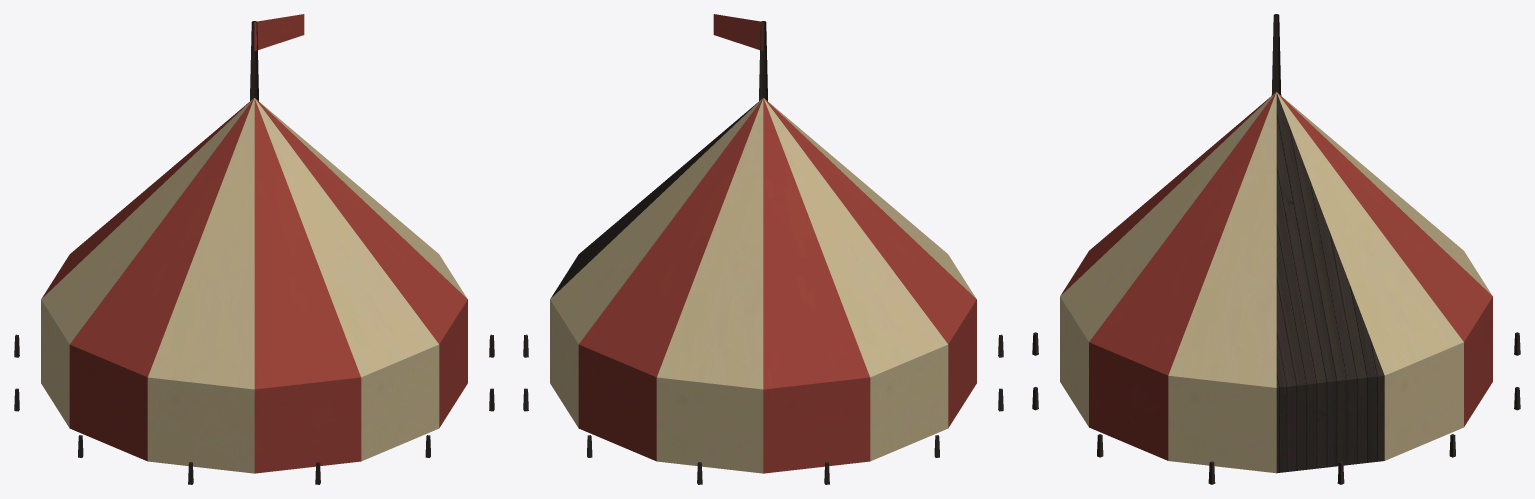
Rendered from tent_large_01.glb.
3 views of the same model, side by side, from view 1: azimuth 30°, elevation 25°; view 2: azimuth 150°, elevation 25°; view 3: azimuth 270°, elevation 25° (orthographic).
Parts seen in each view (by area): view 1: tent_large_01; view 2: tent_large_01; view 3: tent_large_01.
Part boxes in pixels (left/top/right/bottom): tent_large_01: left=14, top=14, right=494, bottom=484; tent_large_01: left=523, top=14, right=1003, bottom=484; tent_large_01: left=1032, top=14, right=1520, bottom=484.
Size of the model in its own units: 5.19 by 4.3 by 5.19.
Materials: 3 (3 with a texture image).
